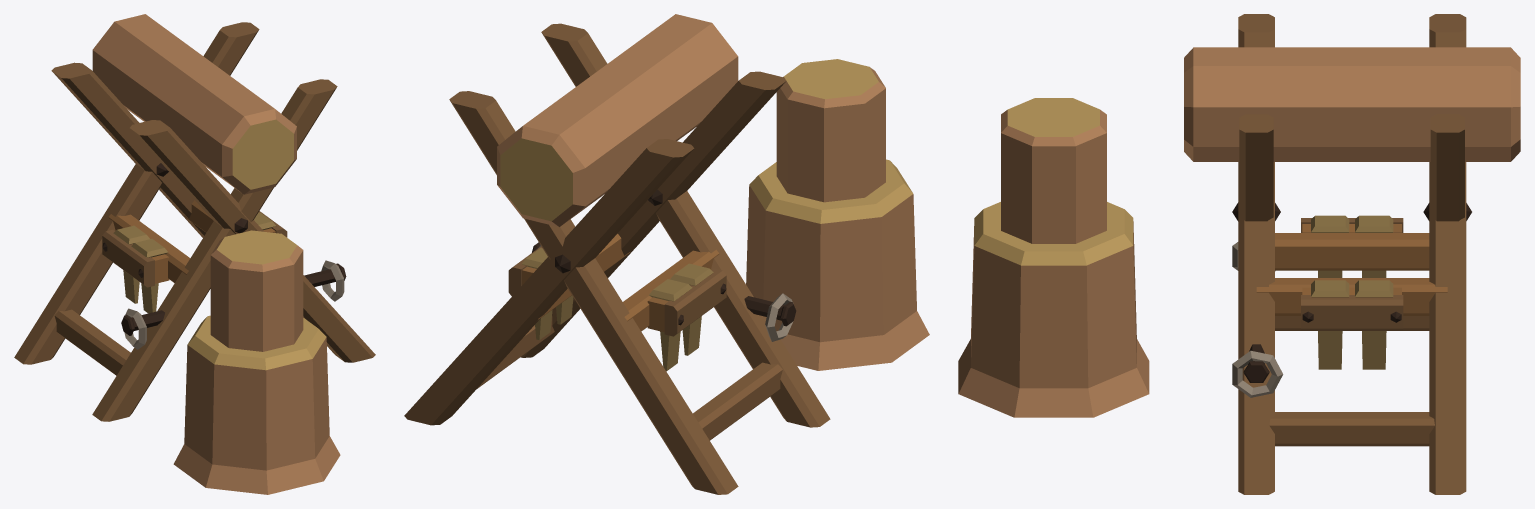
File: firewood-processing-stand-b186ea.glb
The picture shows the model from 3 angles, left to right: view 1: azimuth 30°, elevation 25°; view 2: azimuth 150°, elevation 25°; view 3: azimuth 270°, elevation 25°; orthographic projection. The views are drawn at different scales.
Visible parts, largest first — view 1: stand-body, log, round-whole, wedge-1-mesh, wedge-2-mesh; view 2: stand-body, log, round-whole, wedge-2-mesh, wedge-1-mesh, wedge-4-mesh; view 3: stand-body, log, round-whole, wedge-3-mesh, wedge-4-mesh, wedge-1-mesh, wedge-2-mesh.
Boxes of the visible parts, x1=… form: stand-body: x1=14, y1=22, x2=375, y2=494; log: x1=92, y1=14, x2=296, y2=194; round-whole: x1=210, y1=230, x2=303, y2=351; wedge-1-mesh: x1=131, y1=239, x2=168, y2=313; wedge-2-mesh: x1=113, y1=225, x2=149, y2=303; stand-body: x1=404, y1=23, x2=929, y2=494; log: x1=497, y1=14, x2=738, y2=226; round-whole: x1=776, y1=59, x2=885, y2=202; wedge-2-mesh: x1=649, y1=279, x2=692, y2=371; wedge-1-mesh: x1=670, y1=263, x2=713, y2=355; wedge-4-mesh: x1=522, y1=248, x2=552, y2=340; stand-body: x1=958, y1=14, x2=1471, y2=494; log: x1=1184, y1=47, x2=1520, y2=161; round-whole: x1=1001, y1=98, x2=1106, y2=243; wedge-3-mesh: x1=1311, y1=280, x2=1349, y2=369; wedge-4-mesh: x1=1355, y1=280, x2=1393, y2=369; wedge-1-mesh: x1=1311, y1=215, x2=1349, y2=277; wedge-2-mesh: x1=1355, y1=215, x2=1393, y2=277.
Bounding box in the file's own units: 1.01 × 1.03 × 1.47.
